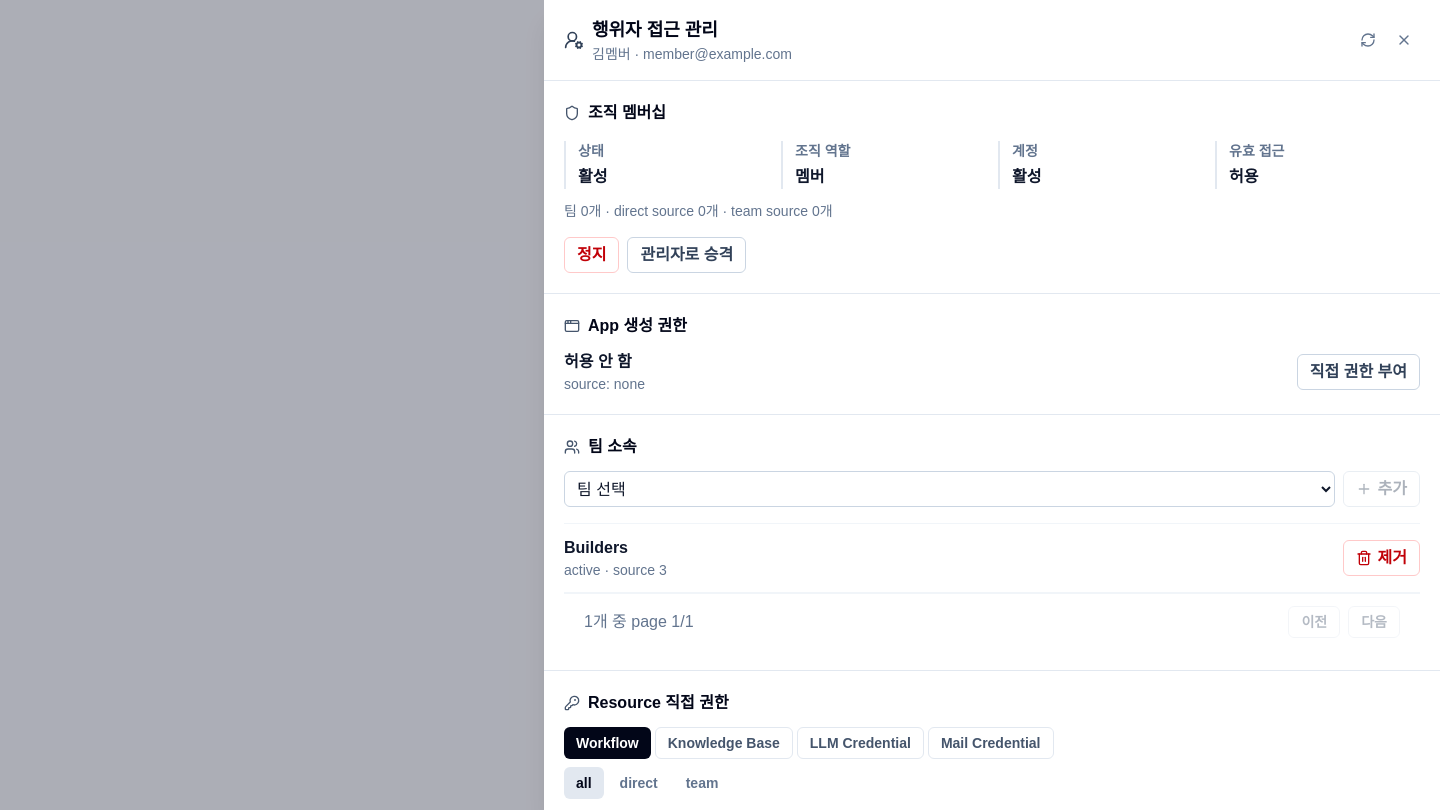
it: ActorAccessDrawer › team remove는 row id와 source impact를 confirm에 고정한다
The width and height of the screenshot is (1440, 810).
Click the button "제거".
click(1381, 558)  # box [1342,540,1420,576]
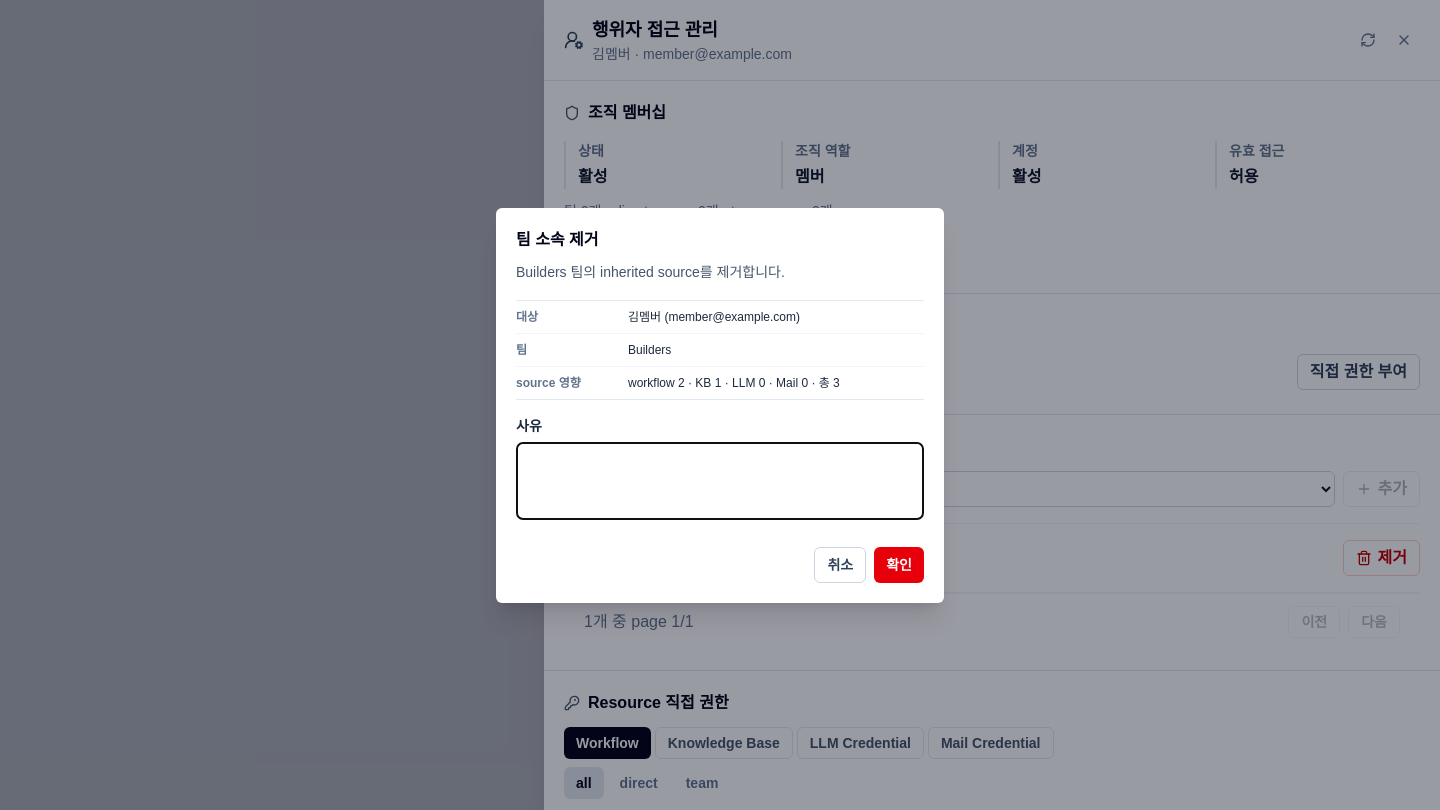
Expected: the text "workflow 2 · KB 1 · LLM 0 · Mail 0 · 총 3" is shown, [628,376,840,390]
Click the button "확인".
click(899, 564)  # box [874,546,924,582]
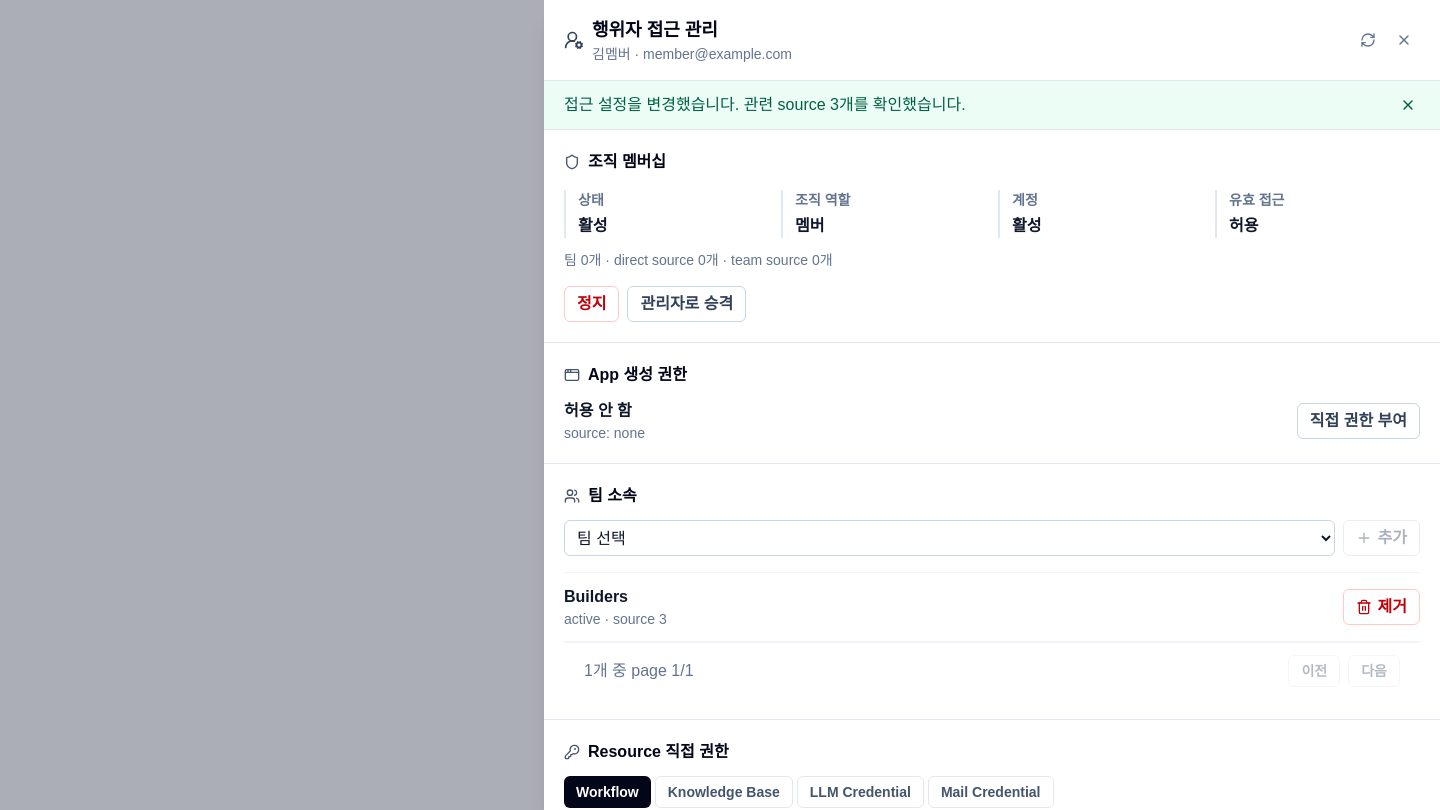
Expected: the text "접근 설정을 변경했습니다. 관련 source 3개를 확인했습니다." is shown, [564,93,966,117]
